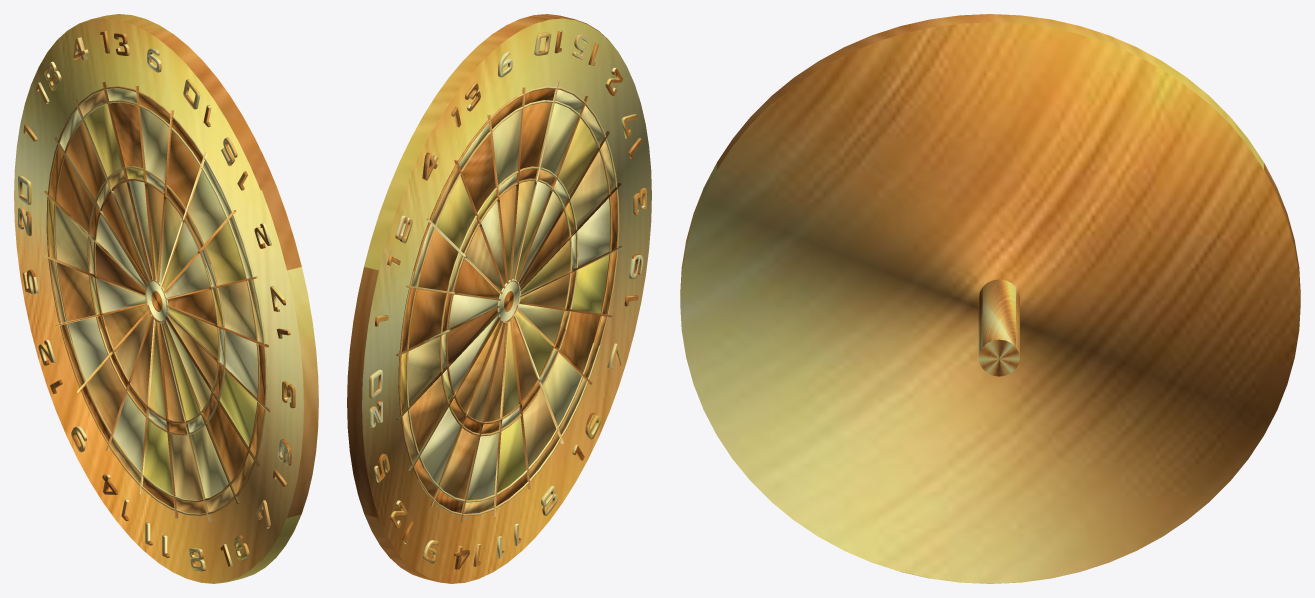
File: Diana.obj
3 views of the same model, side by side, from view 1: azimuth 30°, elevation 25°; view 2: azimuth 150°, elevation 25°; view 3: azimuth 270°, elevation 25° (orthographic). The views are drawn at different scales.
Visible parts, largest first — view 1: pCylinder2; view 2: pCylinder2; view 3: pCylinder2.
Part boxes in pixels (x1,y1,x2,y2): pCylinder2: (14,14,318,583); pCylinder2: (347,14,651,583); pCylinder2: (680,14,1300,583).
Size of the model in its own units: 2.59 by 9.9 by 9.9.
2 materials, 2 textured.
